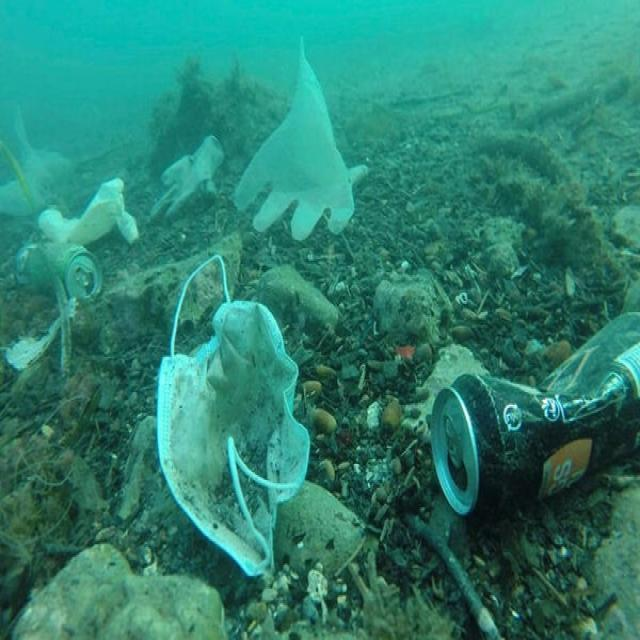Can-Metal: (428, 334, 640, 522), (13, 238, 104, 304)
Mask: (150, 251, 312, 578)
Paper: (37, 176, 139, 246)
